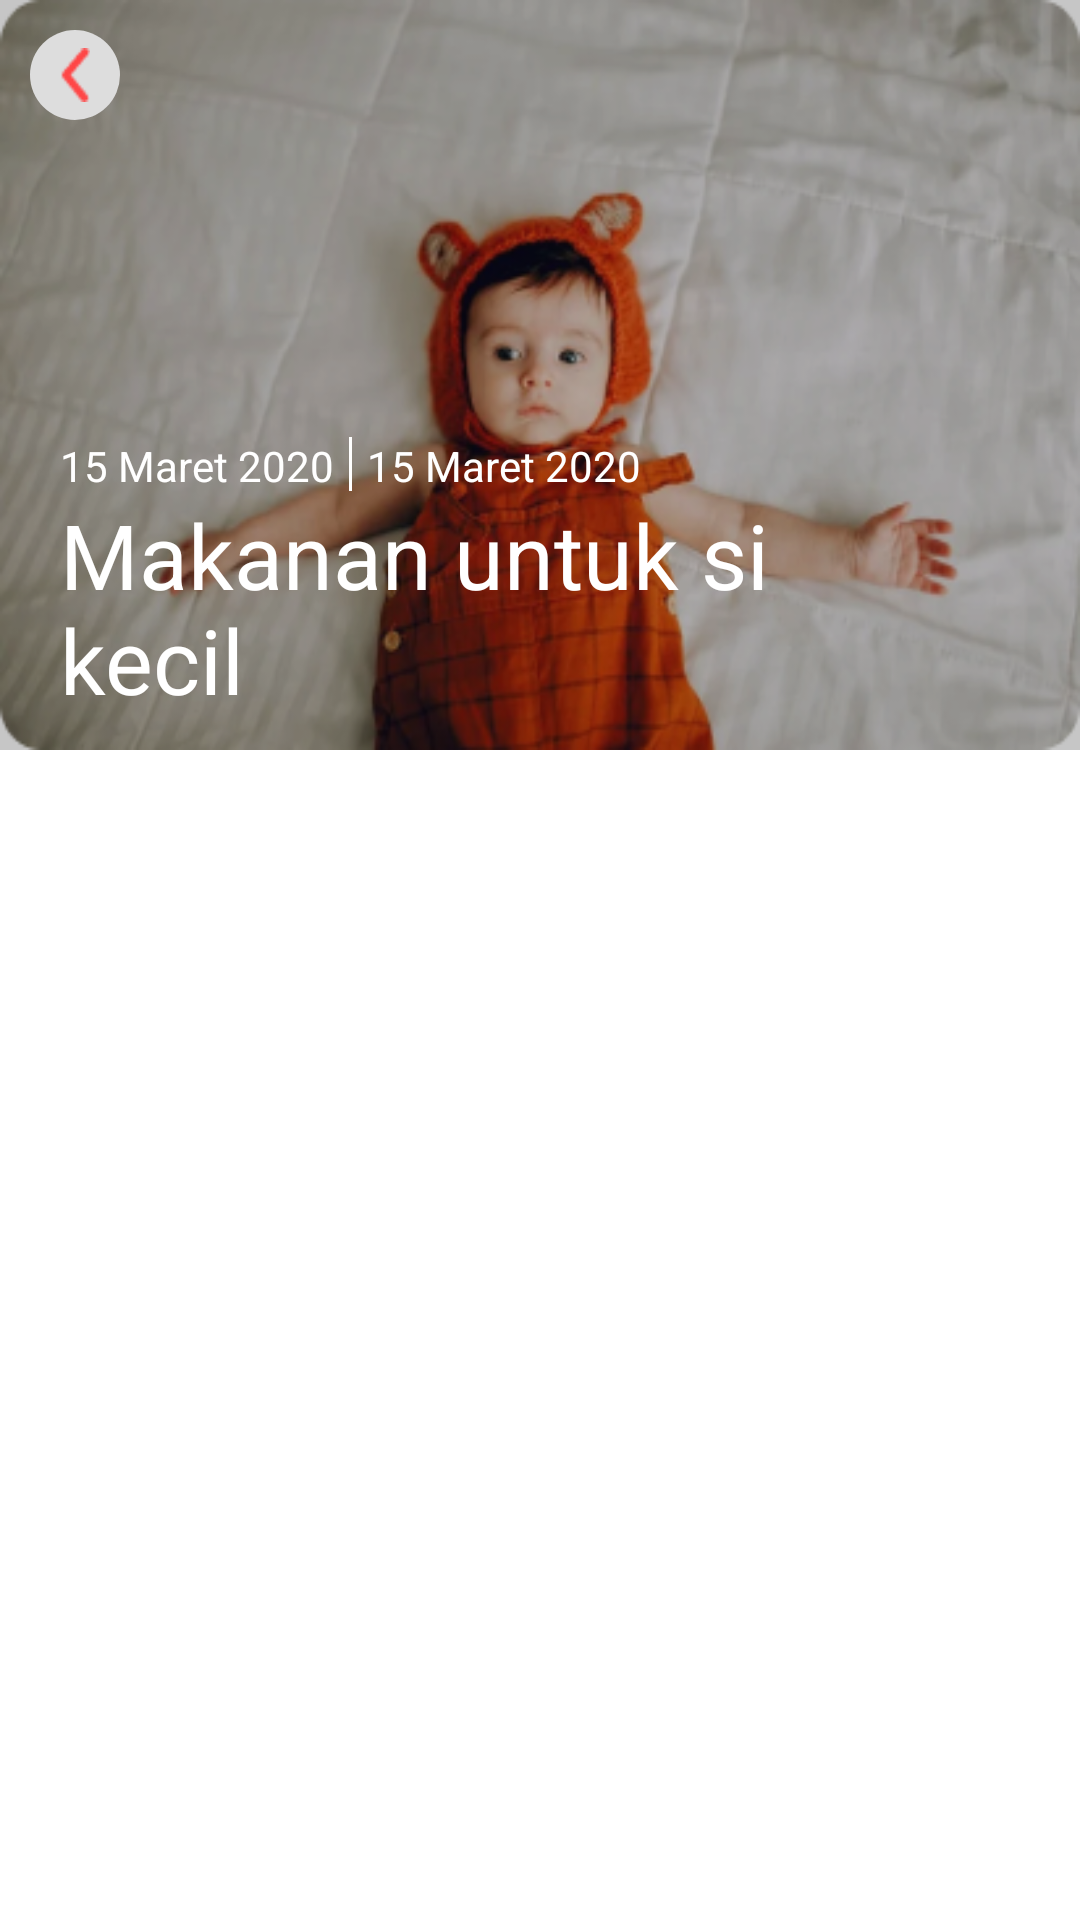

Named icons in this screenshot (1080x1920) and their bounding boxes, rect(x1, y1, x2, y2):
back: rect(30, 30, 120, 120)
